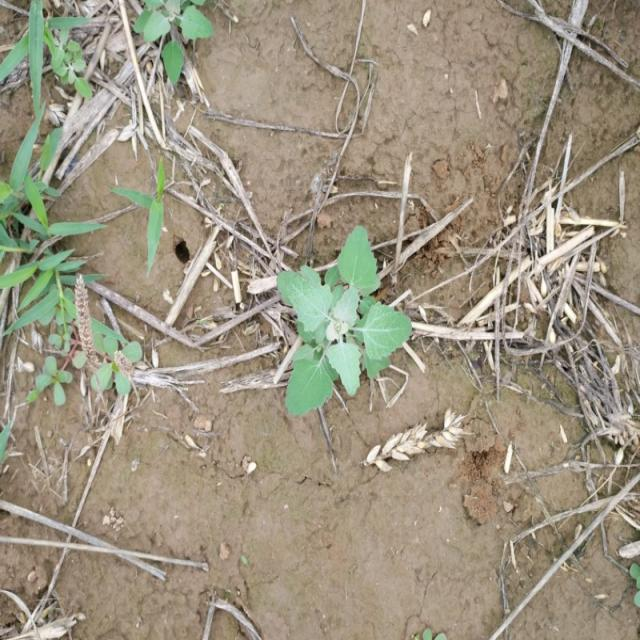goosefoots: (258, 220, 409, 402)
